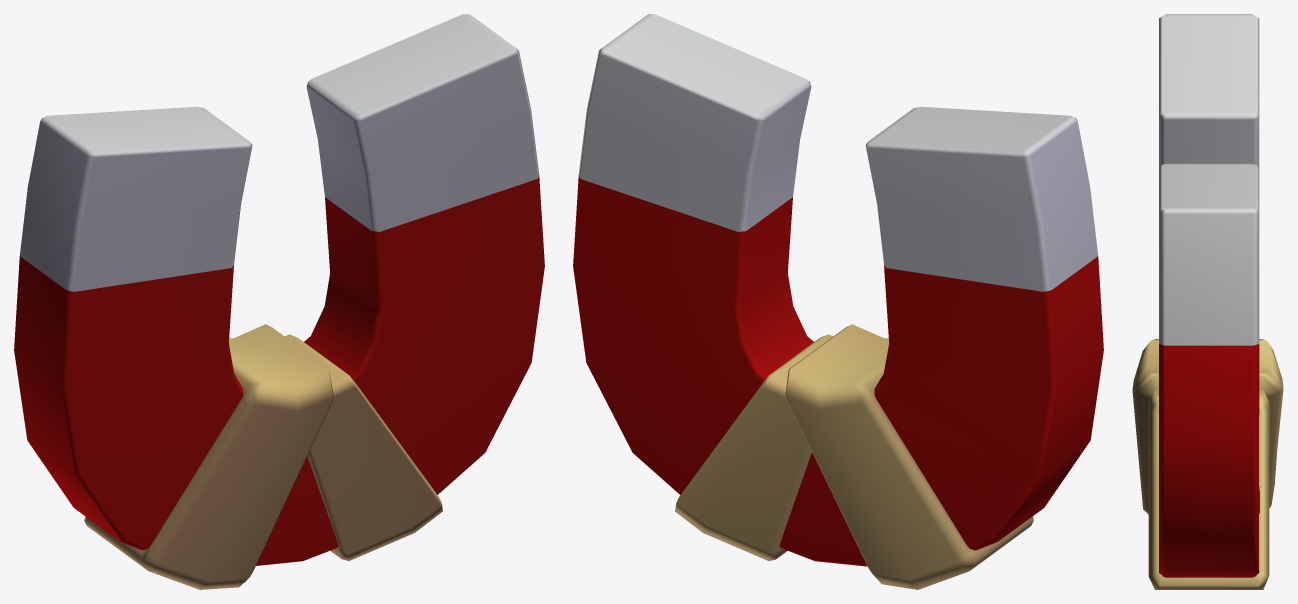
Rendered from magnet.glb.
3 renders of one model, left to right at view 1: azimuth 30°, elevation 25°; view 2: azimuth 150°, elevation 25°; view 3: azimuth 270°, elevation 25°, orthographic. The views are drawn at different scales.
Visible parts, largest first — view 1: magnet.001, tracks; view 2: magnet.001, tracks; view 3: magnet.001, tracks.
Boxes of the visible parts, left/top/right/bottom form: magnet.001: left=14, top=14, right=544, bottom=565; tracks: left=84, top=324, right=442, bottom=589; magnet.001: left=573, top=14, right=1103, bottom=566; tracks: left=675, top=324, right=1033, bottom=589; magnet.001: left=1159, top=14, right=1259, bottom=577; tracks: left=1132, top=339, right=1283, bottom=589.
Bounding box in the file's own units: 0.37 × 0.3419 × 0.1061.
